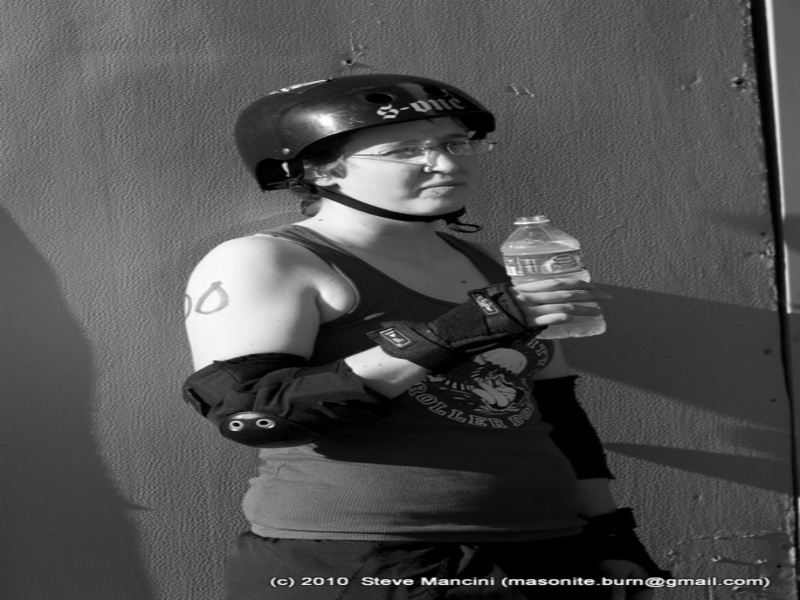baret: (234, 73, 499, 182)
